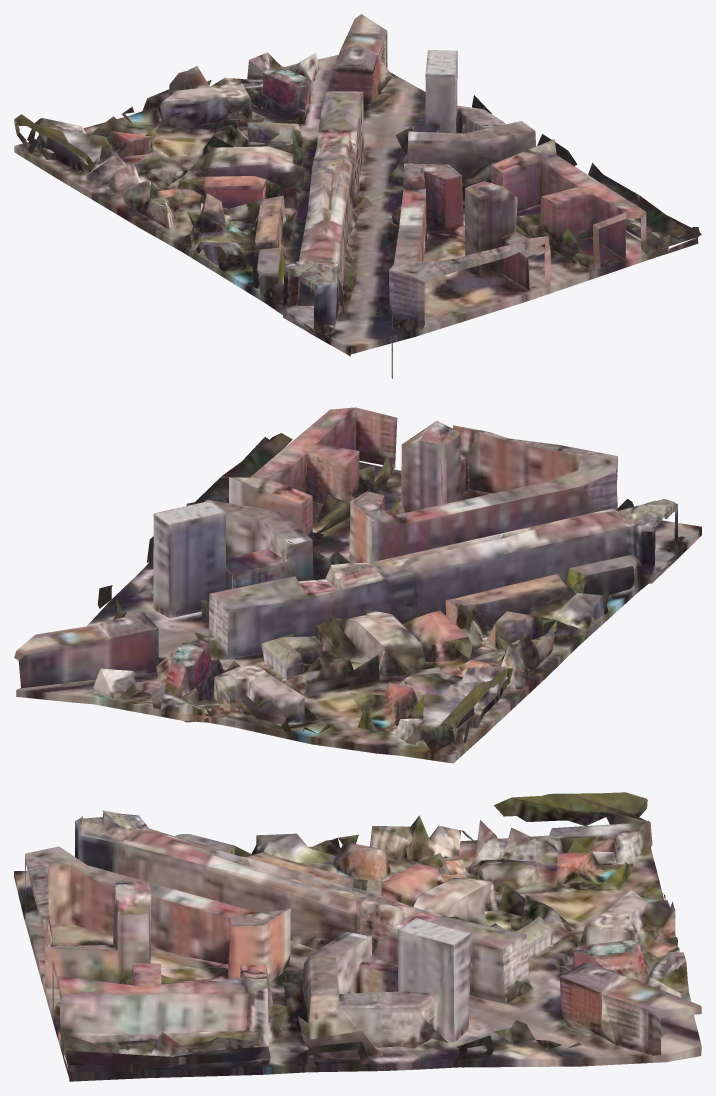
3 renders of one model, top to bottom at view 1: azimuth 30°, elevation 25°; view 2: azimuth 150°, elevation 25°; view 3: azimuth 270°, elevation 25°, orthographic. The views are drawn at different scales.
Parts seen in each view (by area): view 1: Mesh_0; view 2: Mesh_0; view 3: Mesh_0.
Boxes of the visible parts, x1,y1,x2,y2 form: Mesh_0: (14,14,701,378); Mesh_0: (14,407,701,763); Mesh_0: (14,792,701,1081).
Size of the model in its own units: 269 by 79.54 by 330.
Materials: 2 (2 with a texture image).
